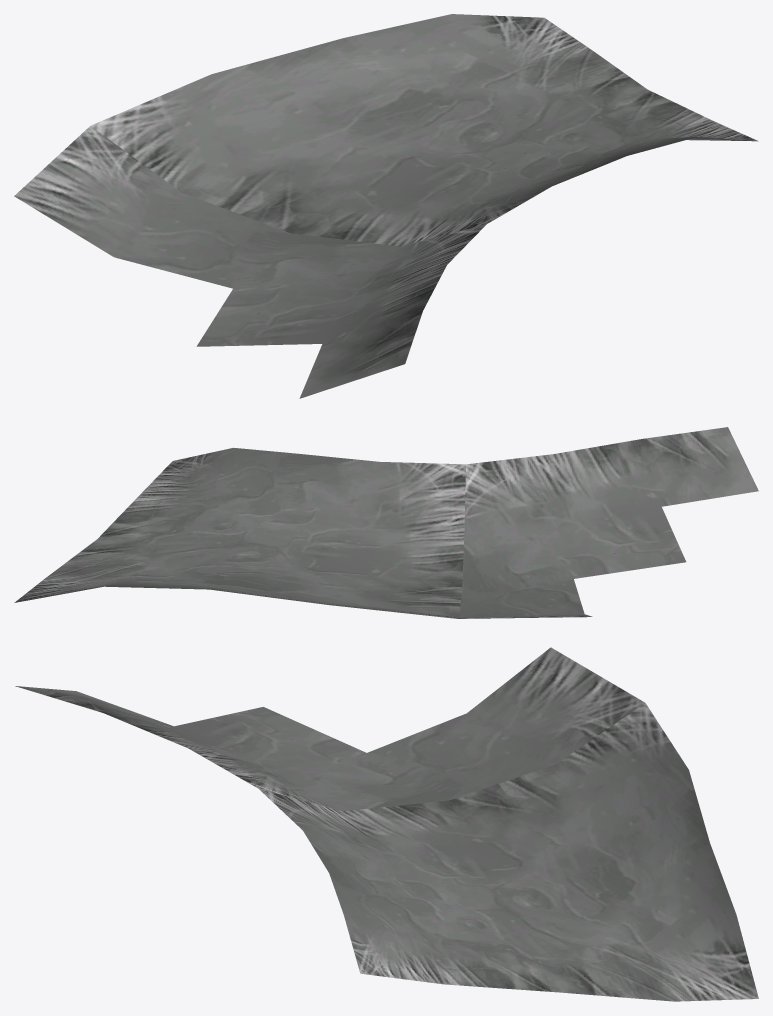
The model's file is SWORDLIGHT20_PS-AREA01_15.fbx.
3 renders of one model, top to bottom at view 1: azimuth 30°, elevation 25°; view 2: azimuth 150°, elevation 25°; view 3: azimuth 270°, elevation 25°, orthographic. The views are drawn at different scales.
Visible parts, largest first — view 1: SWORDLIGHT20_PS-AREA01_15; view 2: SWORDLIGHT20_PS-AREA01_15; view 3: SWORDLIGHT20_PS-AREA01_15.
Part boxes in pixels (box(x1,y1,x2,y2)): SWORDLIGHT20_PS-AREA01_15: box(14, 14, 758, 398); SWORDLIGHT20_PS-AREA01_15: box(14, 427, 758, 618); SWORDLIGHT20_PS-AREA01_15: box(15, 647, 758, 1001).
Size of the model in its own units: 77953 by 8594 by 82117.
2 materials, 2 textured.
